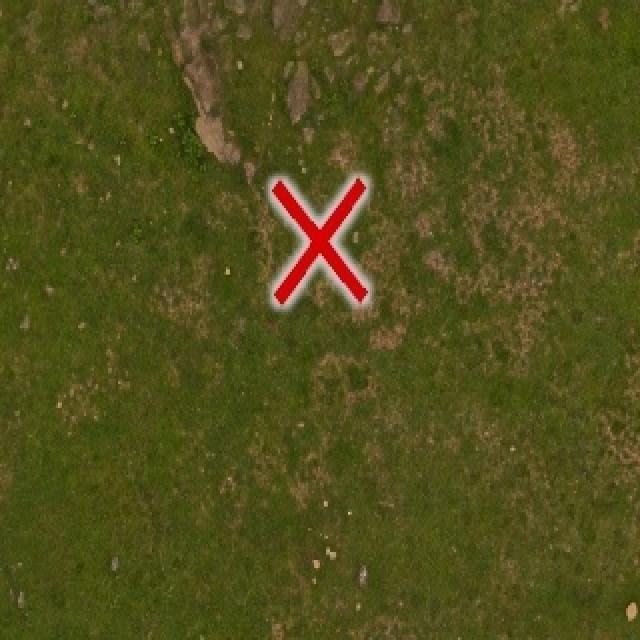x_marker: (271, 177, 367, 303)
